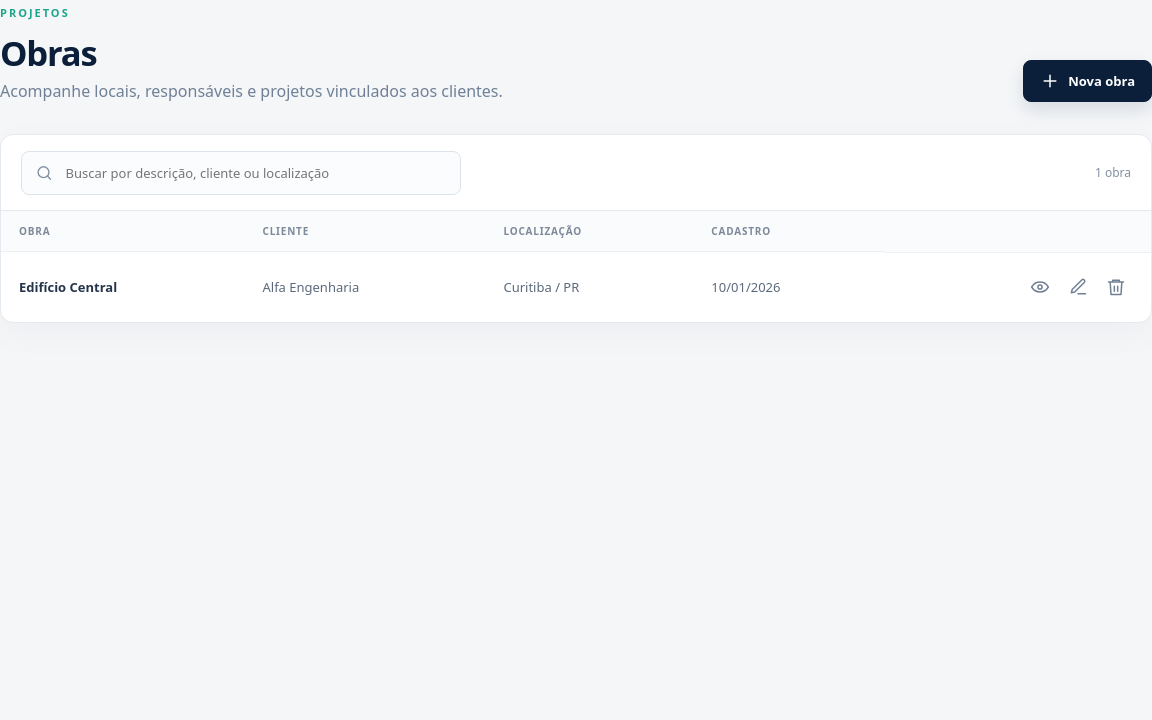
Test case: módulo de obras › exibe bloqueio de exclusão por orçamento
Expected: the text "Edifício Central" is shown, left=19, top=278, right=117, bottom=296
Click the button named "Excluir Edifício Central": coordinates (1116, 288) left=1098, top=270, right=1133, bottom=305
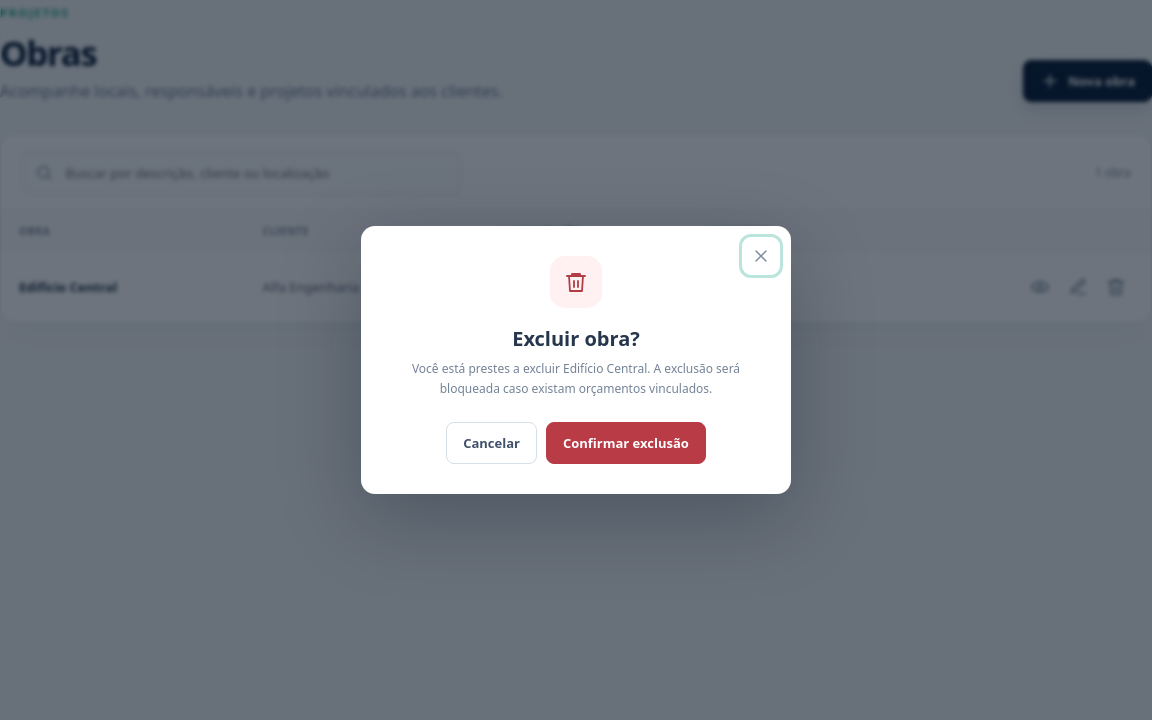
Click the button "Confirmar exclusão": coordinates (626, 443) left=546, top=422, right=706, bottom=464
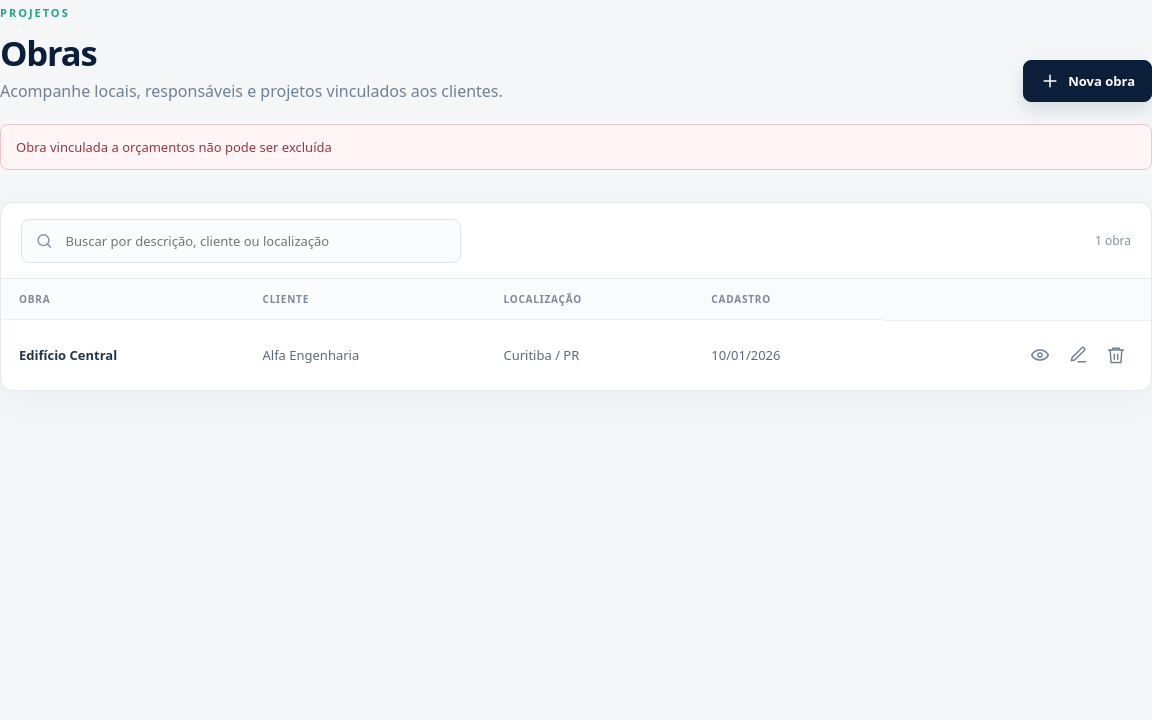
Expected: the message reads "Obra vinculada a orçamentos não pode ser excluída", left=16, top=138, right=332, bottom=156
